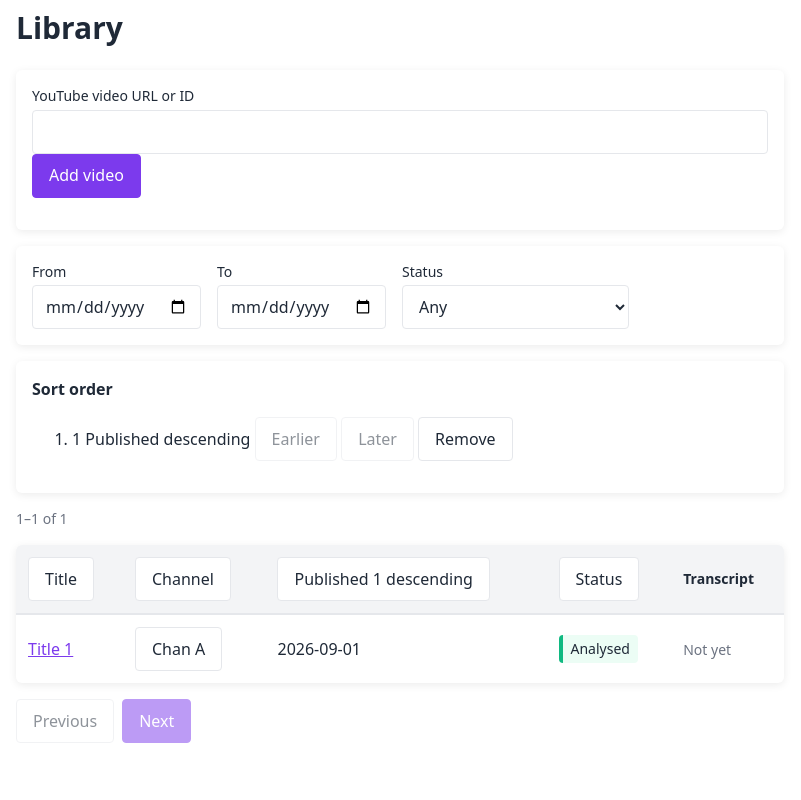
Scenario: single-video submission › shows safe outcome text without a link for an invalid returned video id
This screenshot has width=801, height=800.
Type "valid server input" into the field labelled "YouTube video URL or ID" at (400, 132), box left=32, top=110, right=768, bottom=154
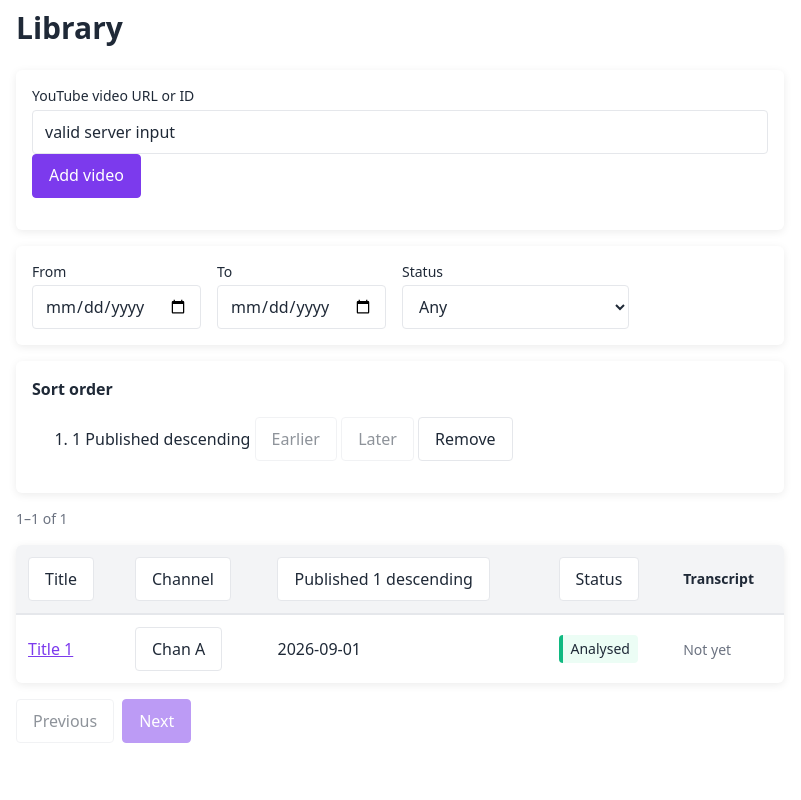
Submit the form "YouTube video URL or ID", box left=16, top=70, right=784, bottom=230
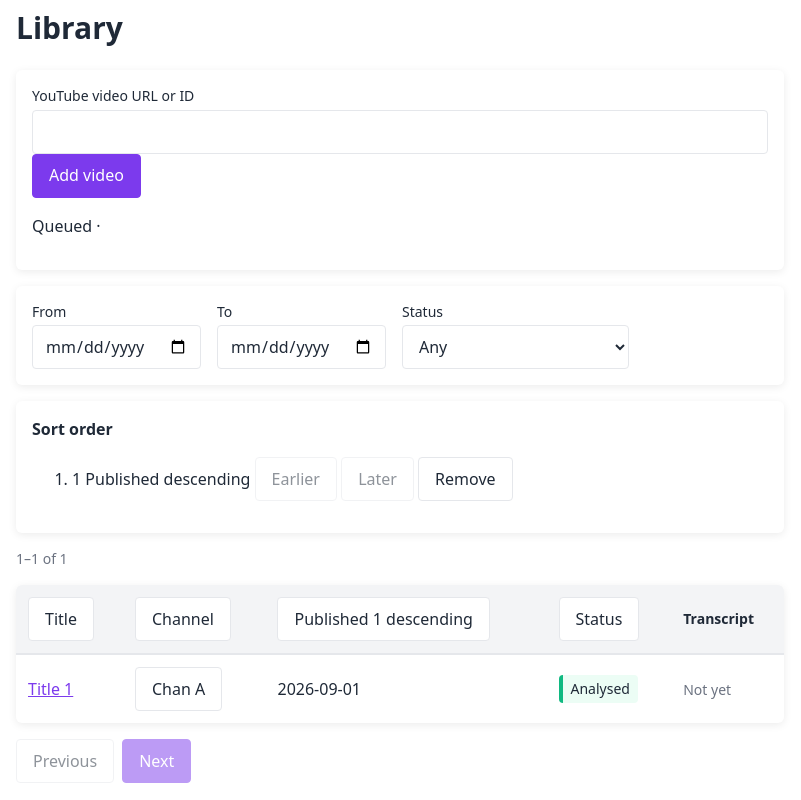
Expected: the text "Queued" is shown, left=32, top=215, right=92, bottom=237
